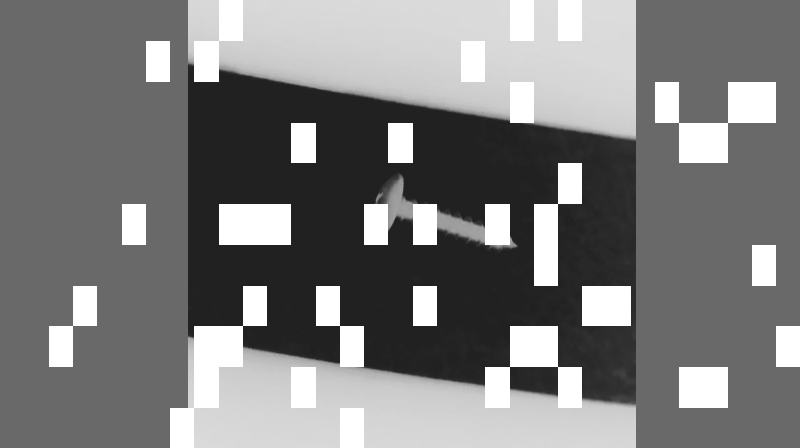S003: (366, 169, 519, 250)
